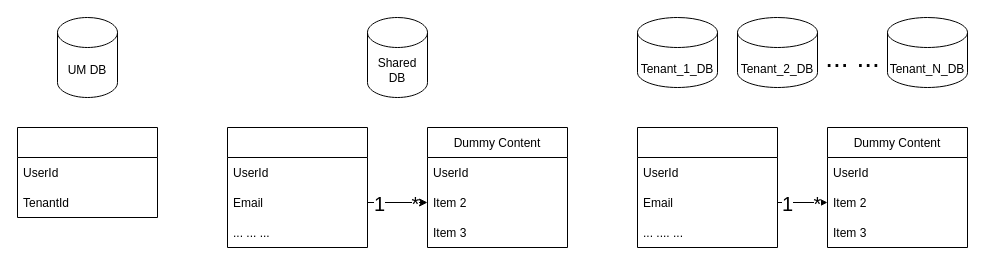
Some shapes in this 985 by 265 pixel diagram are drawn without their labels. The shapes that lost their labels are listed below. From the top down, each one's box as (x1, y1, x2, y2) in pixels, then its label:
(16, 126, 158, 218): Tenant Mapping
(226, 126, 368, 248): Users
(636, 126, 778, 248): User Details
